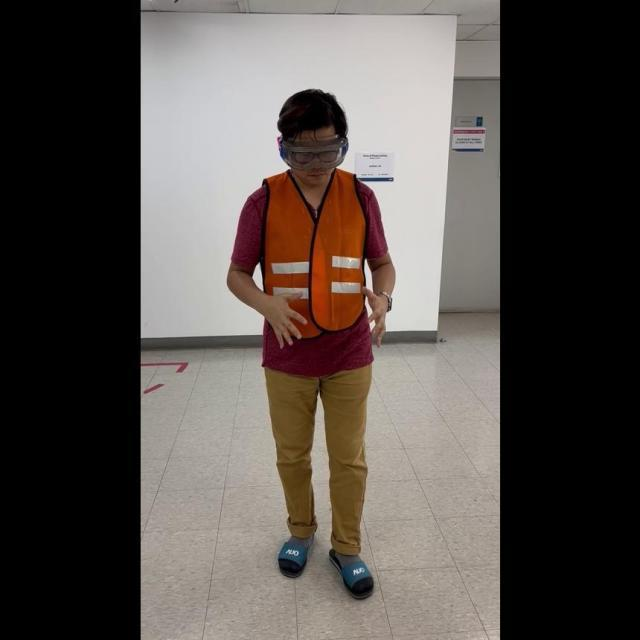bare_hand: (259, 287, 306, 349), (361, 285, 391, 348)
